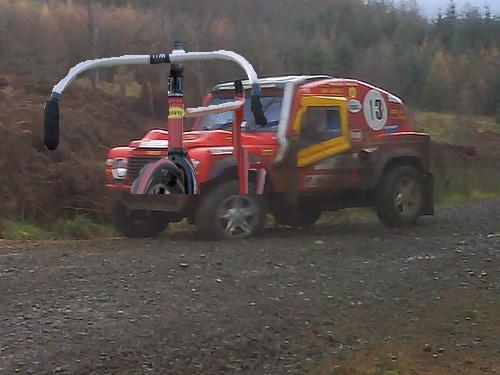tampered: (45, 41, 267, 194)
